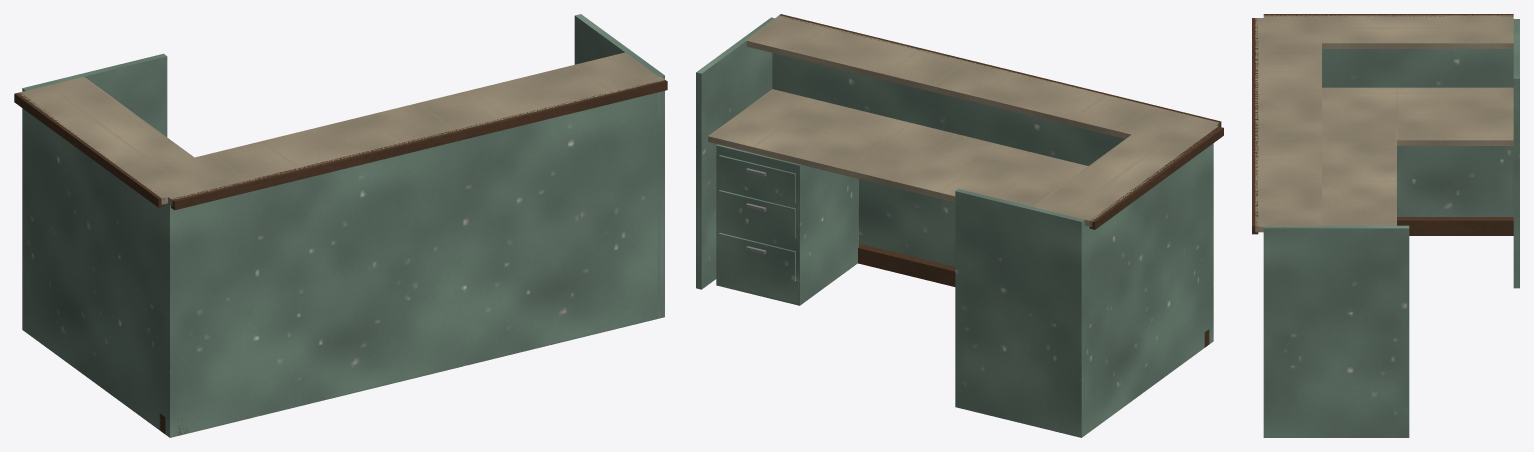
The model's file is Nurse_Station.fbx.
3 renders of one model, left to right at view 1: azimuth 30°, elevation 25°; view 2: azimuth 150°, elevation 25°; view 3: azimuth 270°, elevation 25°, orthographic. The views are drawn at different scales.
Parts seen in each view (by area): view 1: пост медсестры; view 2: пост медсестры; view 3: пост медсестры.
Boxes of the visible parts, x1,y1,x2,y2 form: пост медсестры: (14, 14, 667, 437); пост медсестры: (696, 14, 1223, 437); пост медсестры: (1252, 14, 1519, 437).
Size of the model in its own units: 2.43 by 1.11 by 1.28.
Materials: 1 (1 with a texture image).
